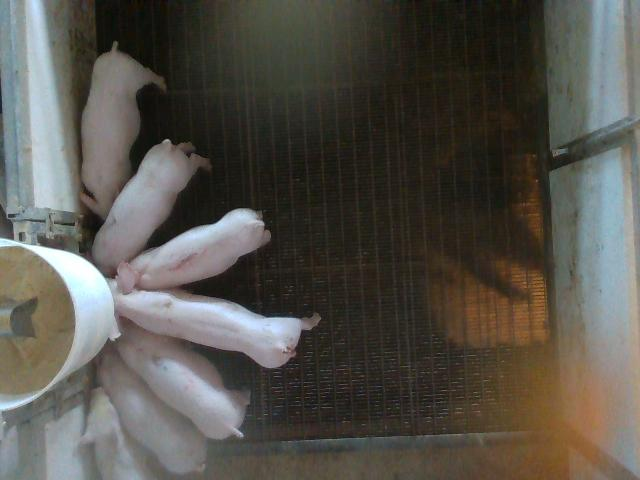pig-1: (129, 209, 271, 290)
